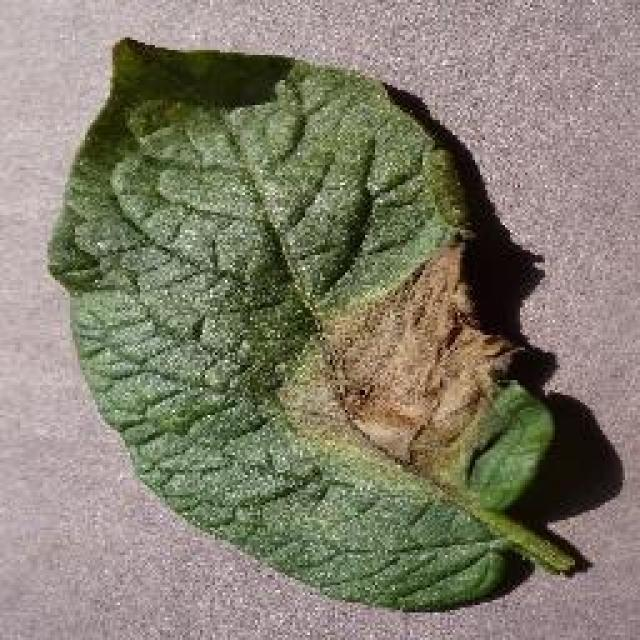Potato: (45, 32, 580, 612)
